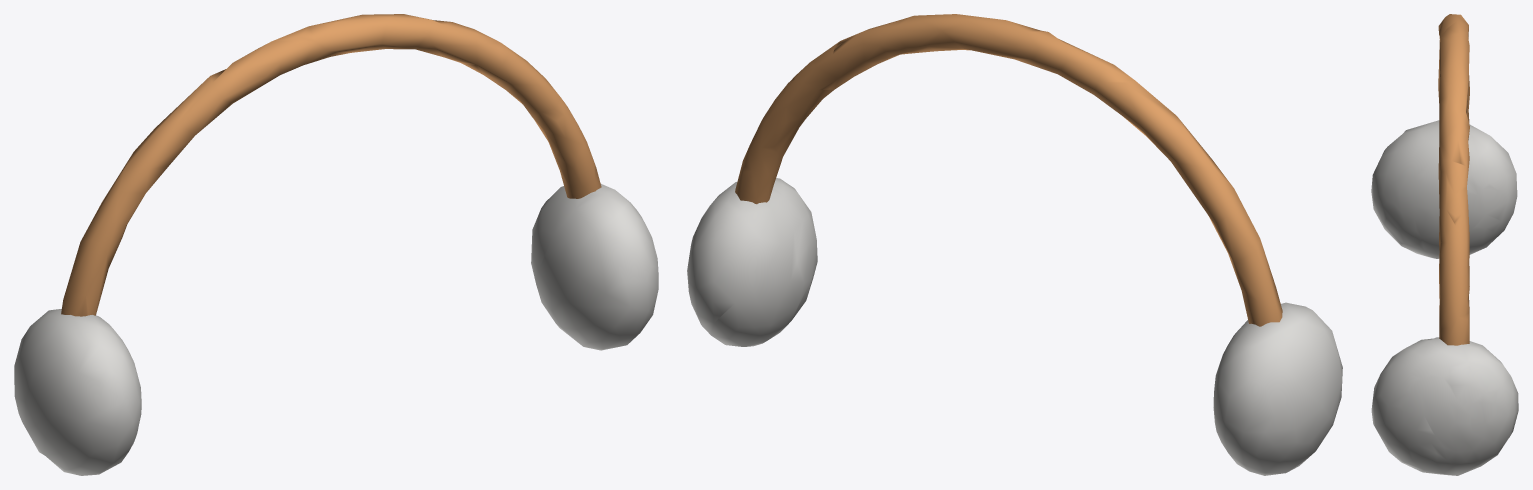
The model's file is tenue_glacier.glb.
3 renders of one model, left to right at view 1: azimuth 30°, elevation 25°; view 2: azimuth 150°, elevation 25°; view 3: azimuth 270°, elevation 25°, orthographic. The views are drawn at different scales.
Visible parts, largest first — view 1: head__coiffe; view 2: head__coiffe; view 3: head__coiffe.
Boxes of the visible parts, bbox=[...] form: head__coiffe: bbox=[14, 14, 658, 475]; head__coiffe: bbox=[687, 14, 1342, 475]; head__coiffe: bbox=[1371, 14, 1518, 475].
Size of the model in its own units: 0.6449 by 0.3818 by 0.157.
